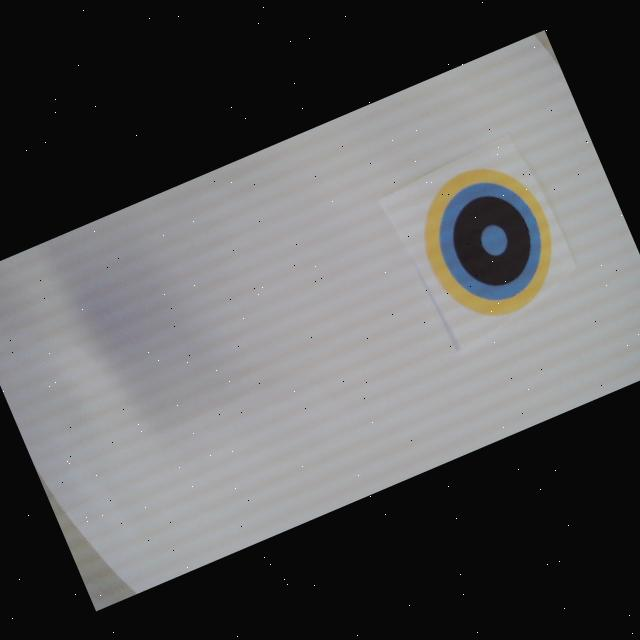COGNITIVE: (402, 148, 576, 336)
